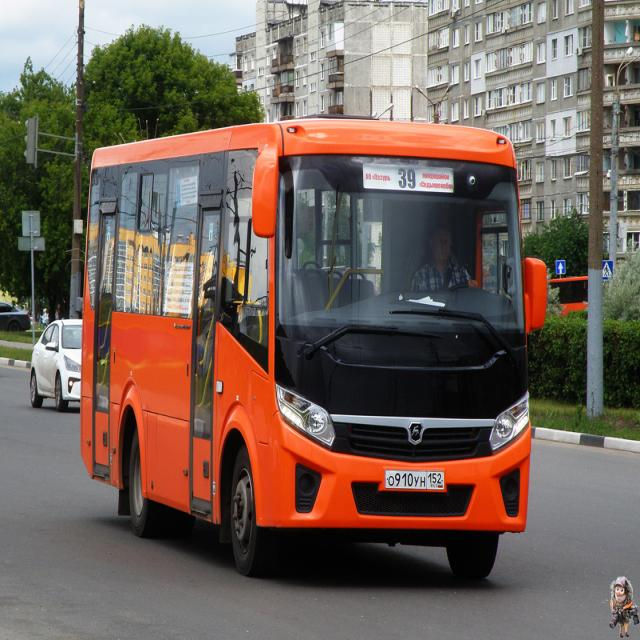number-of-bus: (398, 165, 418, 193)
